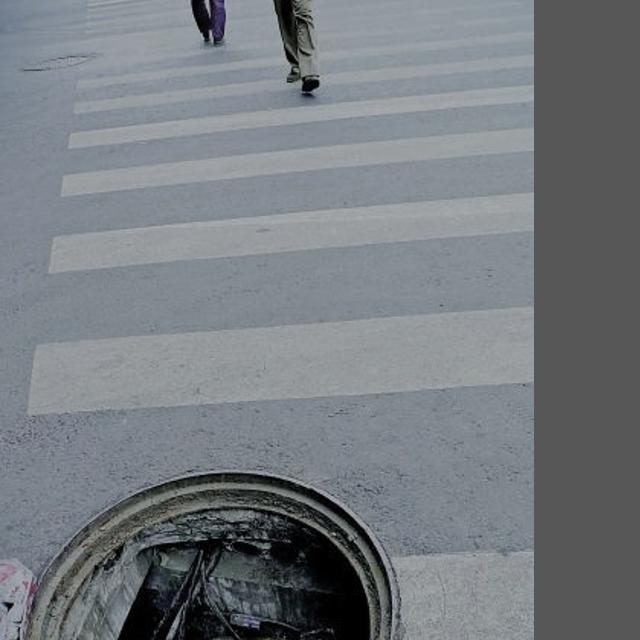lose: (25, 455, 405, 640)
